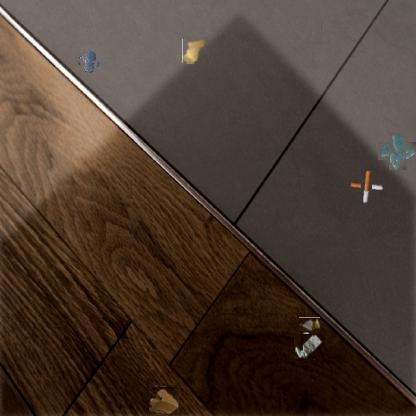dirty: (150, 385, 178, 415), (295, 332, 323, 360), (354, 174, 378, 198), (182, 40, 205, 64), (298, 317, 320, 332)
liquid: (383, 137, 411, 165), (79, 51, 99, 71)
